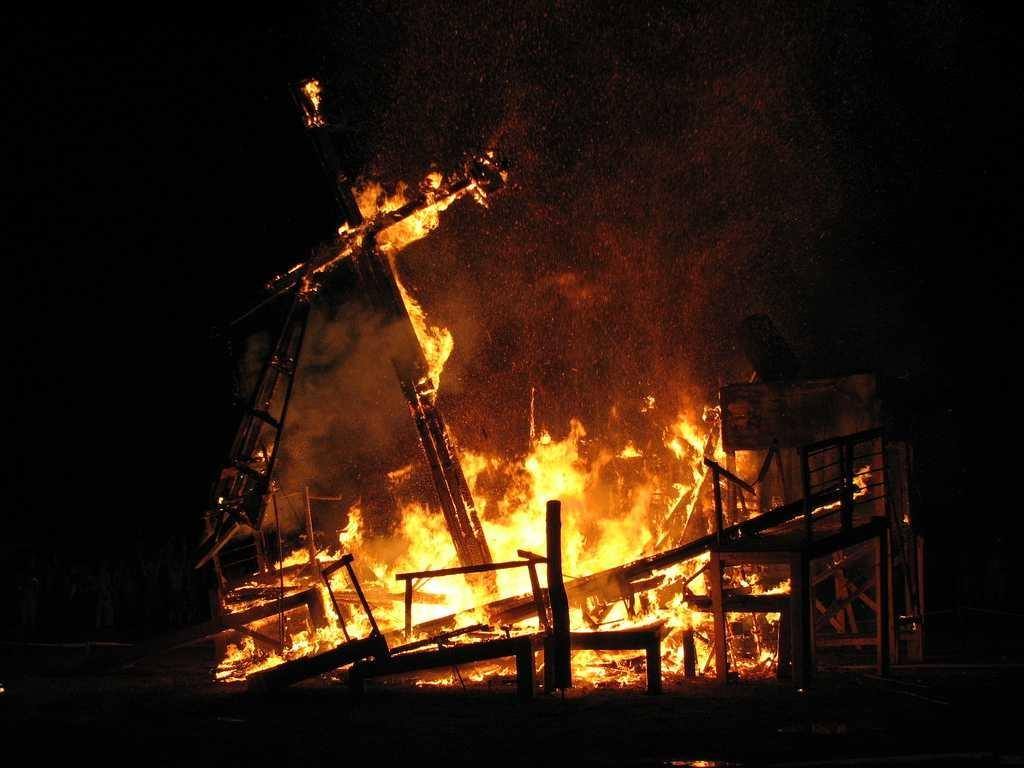fire: (584, 520, 662, 564), (534, 446, 582, 508), (486, 528, 540, 574), (416, 526, 454, 572)
smoke: (500, 212, 700, 368), (302, 336, 402, 474)
